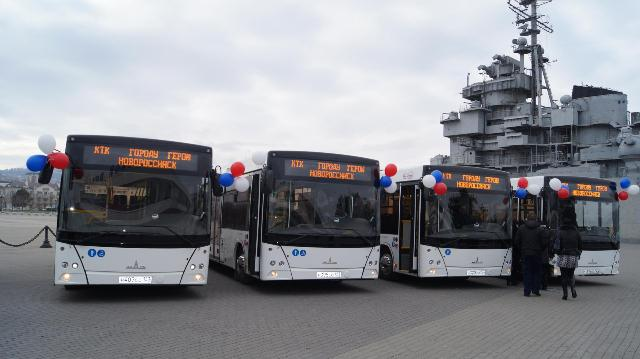bus: (38, 129, 226, 307), (208, 147, 384, 293), (383, 160, 518, 288), (516, 168, 628, 294)
